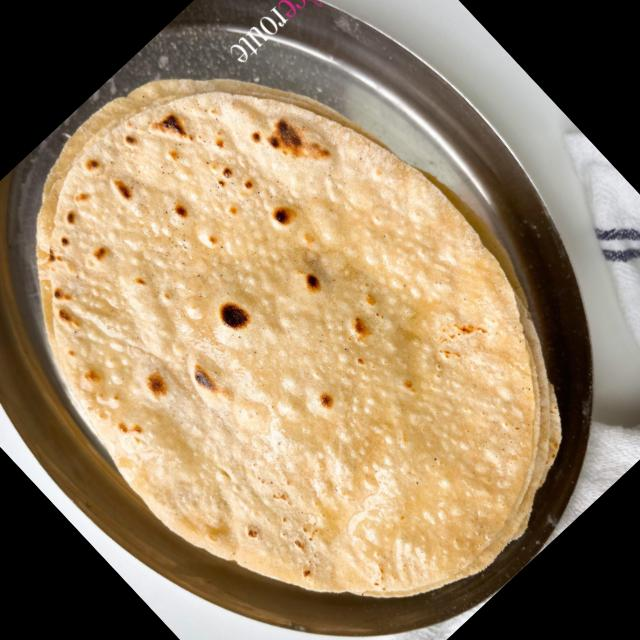roti: (28, 74, 572, 604)
